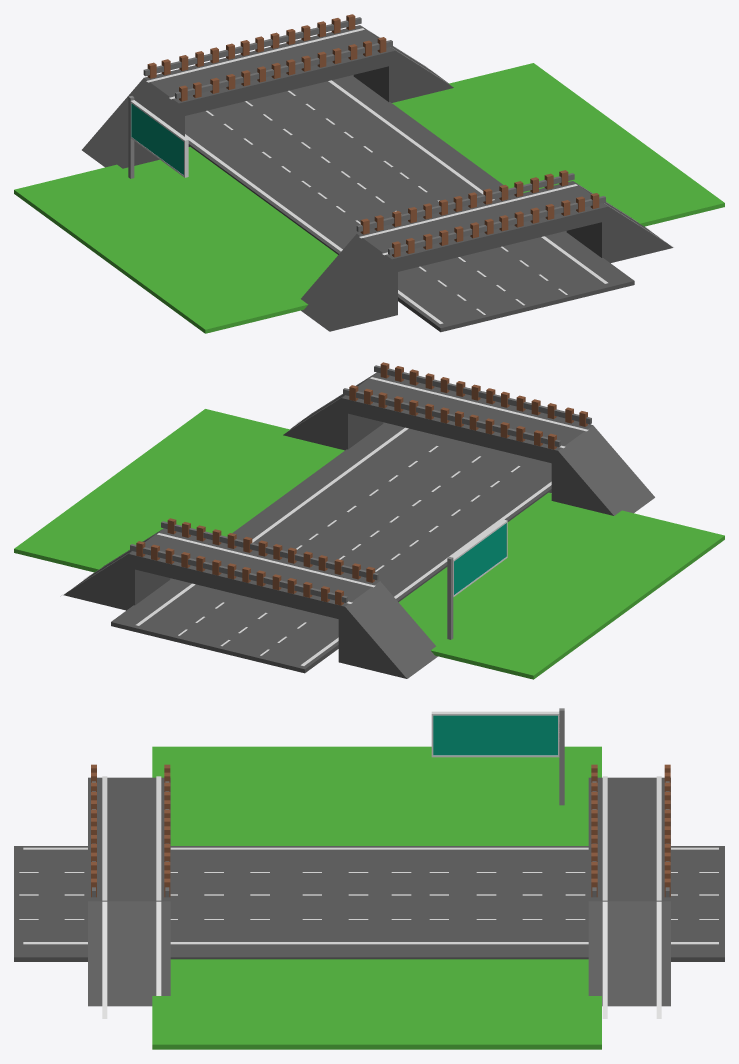
Rendered from Level_From_Maya.fbx.
3 renders of one model, top to bottom at view 1: azimuth 30°, elevation 25°; view 2: azimuth 150°, elevation 25°; view 3: azimuth 270°, elevation 25°, orthographic. The views are drawn at different scales.
Parts seen in each view (by area): view 1: pPlane35, pCube164, pCube157, pCube156, pCube155, pCube161, pCube163; view 2: pPlane35, pCube164, pCube157, pCube155, pCube156, pCube161, pCube159, pCube163; view 3: pPlane35, pCube164, pCube157, pCube155, pCube156, pCube161, pCube163, pCube159.
Boxes of the visible parts, x1,y1,x2,y2 form: pPlane35: (185, 75, 634, 332); pCube164: (14, 146, 337, 333); pCube157: (392, 63, 724, 226); pCube156: (301, 170, 673, 331); pCube155: (82, 14, 453, 168); pCube161: (131, 103, 183, 174); pCube163: (130, 100, 188, 177); pPlane35: (111, 422, 551, 673); pCube164: (399, 492, 724, 679); pCube157: (14, 409, 344, 572); pCube155: (60, 518, 437, 678); pCube156: (283, 362, 654, 515); pCube161: (454, 523, 506, 594); pCube159: (447, 557, 453, 639); pCube163: (452, 519, 507, 596); pPlane35: (14, 846, 724, 961); pCube164: (152, 746, 601, 845); pCube157: (152, 959, 601, 1049); pCube155: (588, 764, 670, 1018); pCube156: (88, 764, 170, 1018); pCube161: (433, 715, 557, 755); pCube163: (431, 711, 559, 757); pCube159: (559, 708, 564, 805).
Bounding box in the file's own units: 134 × 22.94 × 135.
